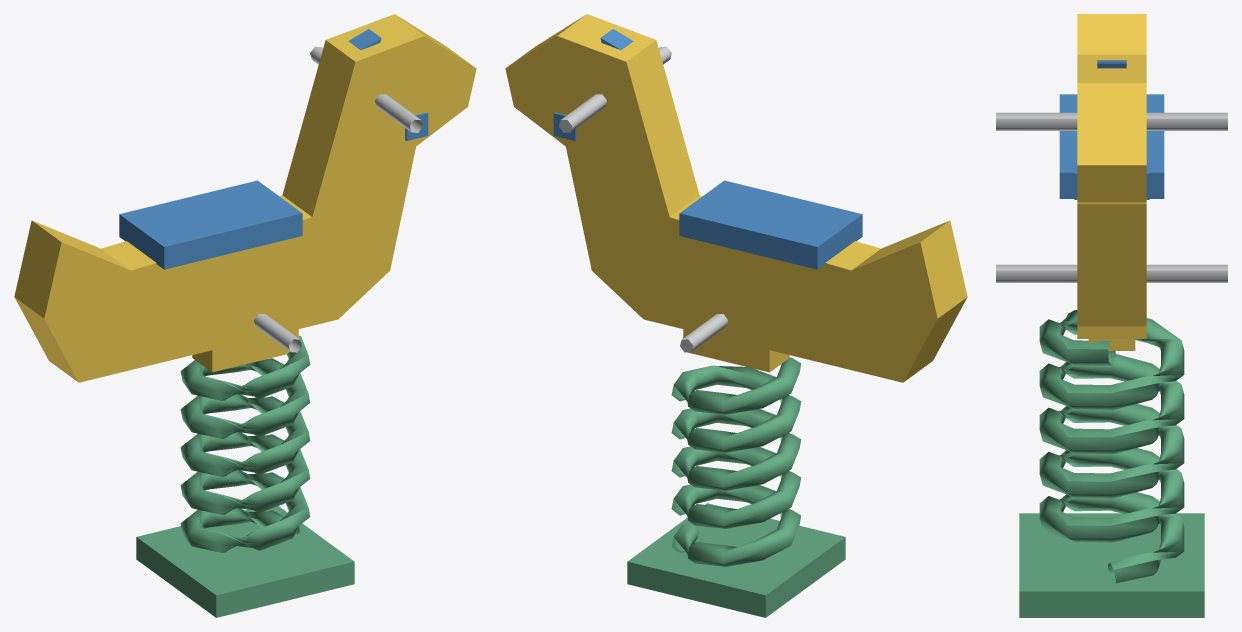
File: spring-rider.glb
3 renders of one model, left to right at view 1: azimuth 30°, elevation 25°; view 2: azimuth 150°, elevation 25°; view 3: azimuth 270°, elevation 25°, orthographic. The views are drawn at different scales.
Visible parts, largest first — view 1: spring-rider; view 2: spring-rider; view 3: spring-rider.
Boxes of the visible parts, x1,y1,x2,y2 form: spring-rider: [14, 14, 476, 617]; spring-rider: [505, 14, 967, 617]; spring-rider: [996, 14, 1227, 617].
Bounding box in the file's own units: 1 × 1.12 × 0.3999.
